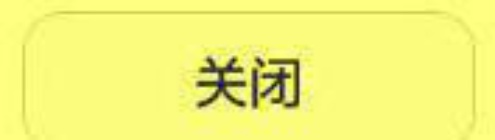Button: (1, 1, 494, 139)
